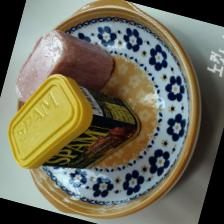spam: (0, 63, 148, 195)
